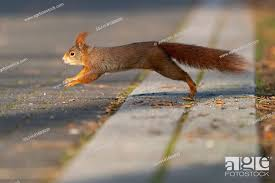squirrel: (61, 32, 251, 96)
